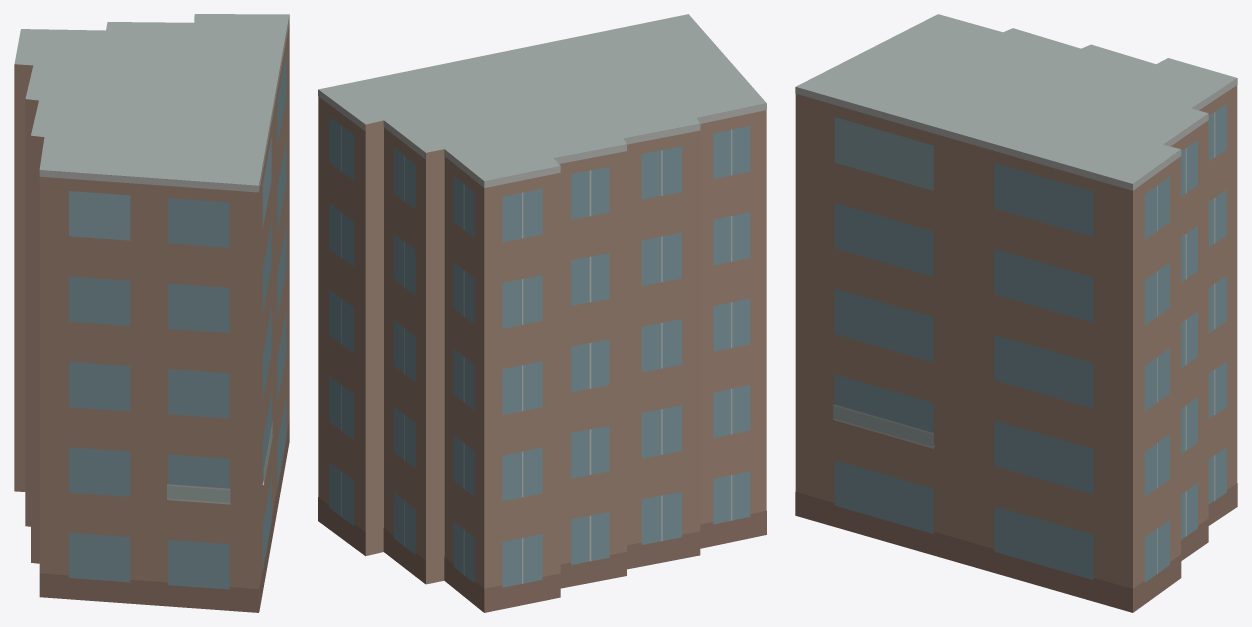
File: survey-upis-32926026.glb
The picture shows the model from 3 angles, left to right: view 1: azimuth 30°, elevation 25°; view 2: azimuth 150°, elevation 25°; view 3: azimuth 270°, elevation 25°; orthographic projection.
Parts seen in each view (by area): view 1: survey-upis-32926026.tmp; view 2: survey-upis-32926026.tmp; view 3: survey-upis-32926026.tmp.
Part boxes in pixels (x1,y1,x2,y2): survey-upis-32926026.tmp: (14,14,289,612); survey-upis-32926026.tmp: (318,14,766,612); survey-upis-32926026.tmp: (795,14,1237,612).
Bounding box in the file's own units: 13.01 × 15.3 × 14.3.
